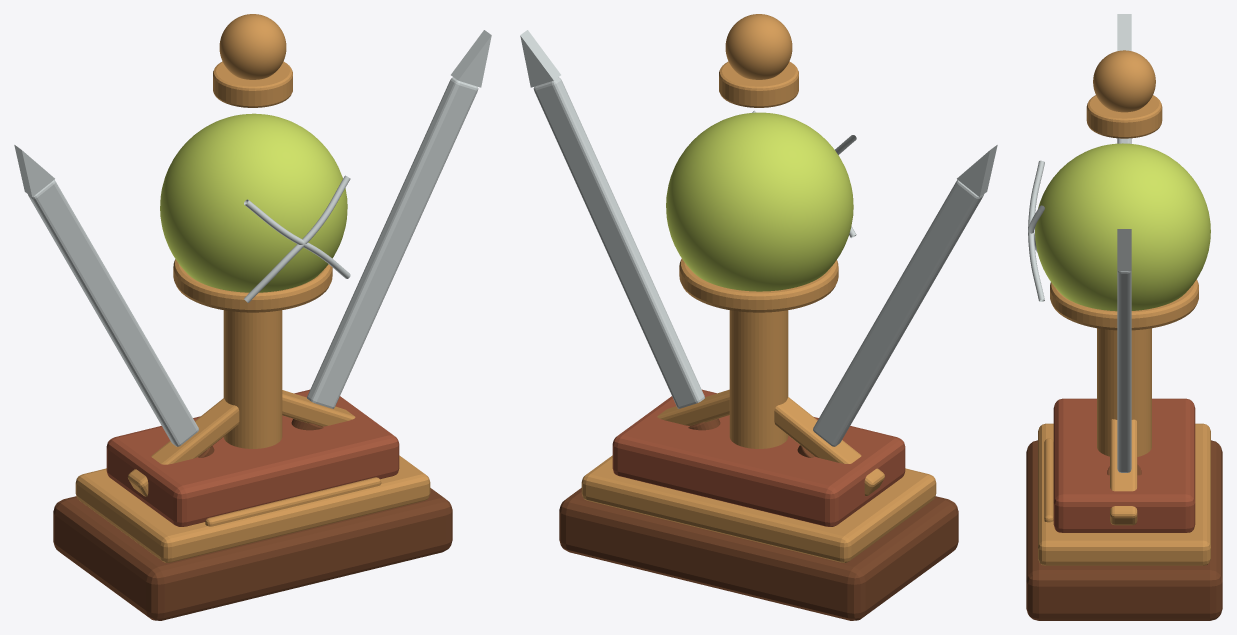
File: claymore-v1.glb
3 renders of one model, left to right at view 1: azimuth 30°, elevation 25°; view 2: azimuth 150°, elevation 25°; view 3: azimuth 270°, elevation 25°, orthographic. The views are drawn at different scales.
Parts seen in each view (by area): view 1: Tennis ball, Lower plinth, Upper plinth, Brass plinth rim, Right claymore blade, Left claymore blade, Central stem, Crown finial, Ball cradle, Left claymore guard, Crown collar, Winner engraving plate (+5 smaller); view 2: Tennis ball, Lower plinth, Upper plinth, Brass plinth rim, Right claymore blade, Left claymore blade, Central stem, Ball cradle, Crown finial, Left claymore guard, Crown collar, Right claymore guard (+2 smaller); view 3: Tennis ball, Upper plinth, Lower plinth, Brass plinth rim, Central stem, Crown finial, Right claymore blade, Ball cradle, Crown collar, Right claymore guard, Ball seam -1, Winner engraving plate (+2 smaller).
Boxes of the visible parts, x1,y1,x2,y2 form: Tennis ball: (160, 113, 347, 292); Lower plinth: (53, 488, 452, 620); Upper plinth: (106, 389, 399, 526); Brass plinth rim: (75, 455, 430, 562); Right claymore blade: (307, 77, 478, 408); Left claymore blade: (28, 180, 198, 446); Central stem: (223, 310, 282, 448); Crown finial: (219, 14, 286, 79); Ball cradle: (173, 259, 332, 312); Left claymore guard: (128, 398, 239, 496); Crown collar: (213, 61, 292, 107); Winner engraving plate: (205, 477, 381, 526); Tennis ball: (666, 112, 853, 291); Lower plinth: (559, 488, 958, 620); Upper plinth: (612, 389, 905, 526); Brass plinth rim: (581, 455, 936, 562); Right claymore blade: (533, 77, 704, 408); Left claymore blade: (813, 180, 983, 446); Central stem: (729, 310, 788, 448); Ball cradle: (679, 258, 838, 312); Crown finial: (725, 14, 792, 79); Left claymore guard: (774, 397, 884, 495); Crown collar: (719, 61, 798, 107); Right claymore guard: (657, 389, 729, 425); Tennis ball: (1035, 143, 1210, 311); Upper plinth: (1053, 398, 1195, 532); Lower plinth: (1026, 440, 1222, 620); Brass plinth rim: (1038, 423, 1210, 565); Central stem: (1097, 328, 1151, 456); Crown finial: (1093, 50, 1155, 112); Right claymore blade: (1117, 271, 1131, 472); Ball cradle: (1050, 279, 1198, 330); Crown collar: (1086, 95, 1162, 138); Right claymore guard: (1110, 419, 1137, 525); Ball seam -1: (1028, 160, 1044, 301); Winner engraving plate: (1044, 438, 1053, 522).
Size of the model in its own units: 0.6479 by 0.7162 by 0.25.
